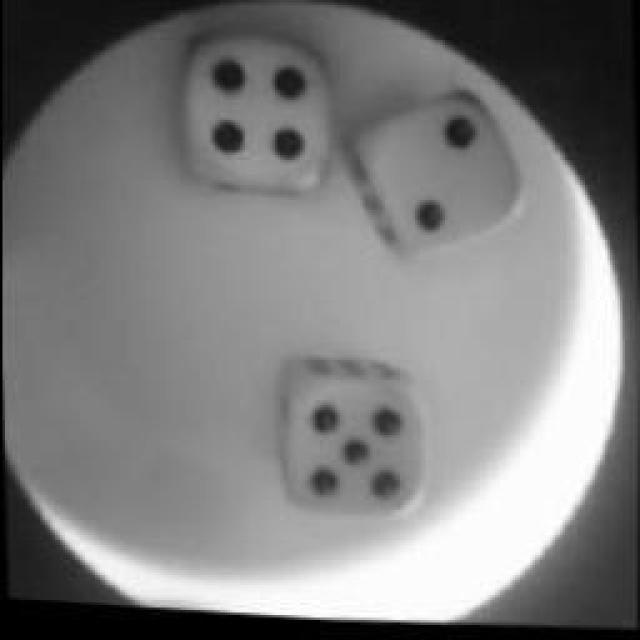dice_2: (346, 90, 526, 280)
dice_4: (159, 26, 339, 224)
dice_5: (266, 362, 442, 546)
